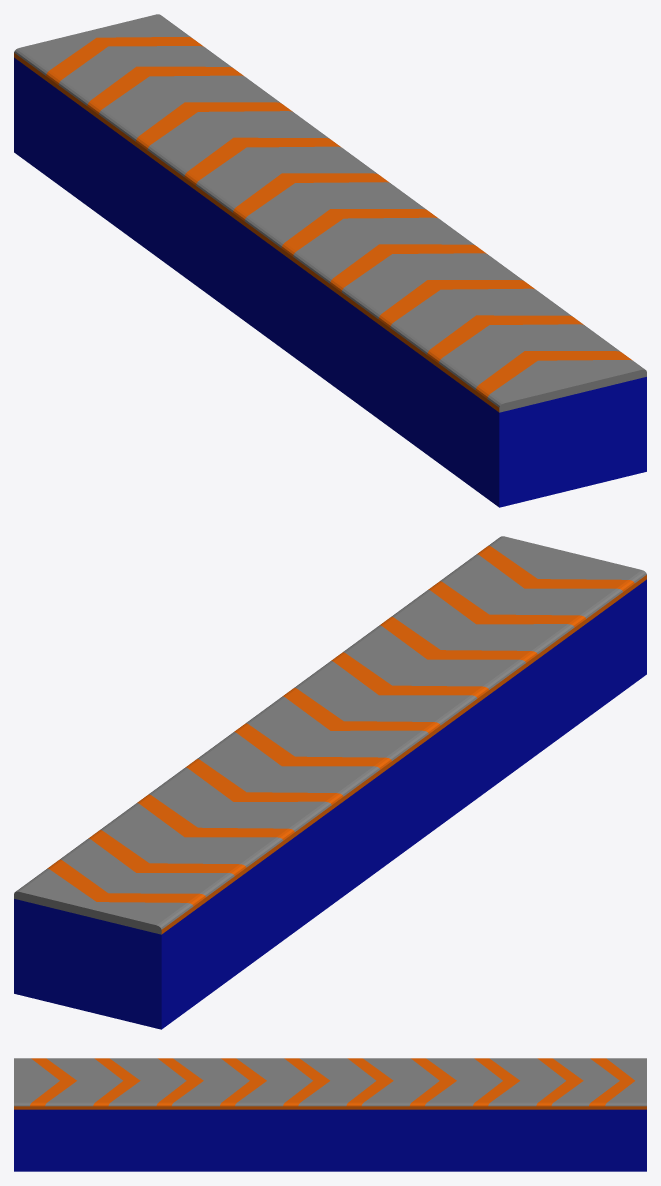
The model's file is platform (2).fbx.
3 views of the same model, one above another, from view 1: azimuth 30°, elevation 25°; view 2: azimuth 150°, elevation 25°; view 3: azimuth 270°, elevation 25° (orthographic). The views are drawn at different scales.
Visible parts, largest first — view 1: platform; view 2: platform; view 3: platform.
Part boxes in pixels (x1,y1,x2,y2): platform: [14, 14, 646, 507]; platform: [14, 536, 646, 1029]; platform: [14, 1058, 646, 1171].
Size of the model in its own units: 348 by 233 by 1983.
